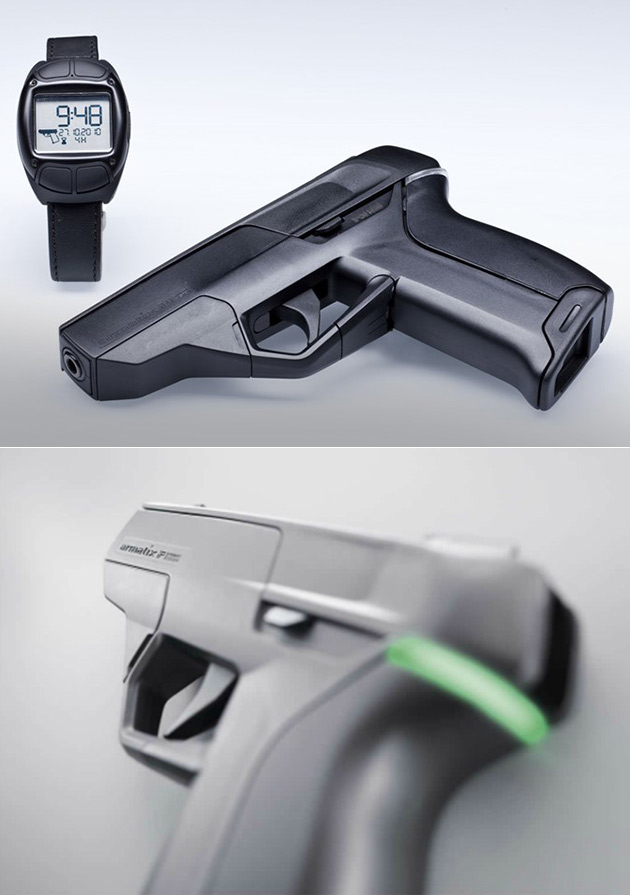gun: (84, 494, 587, 895), (49, 141, 619, 418)
